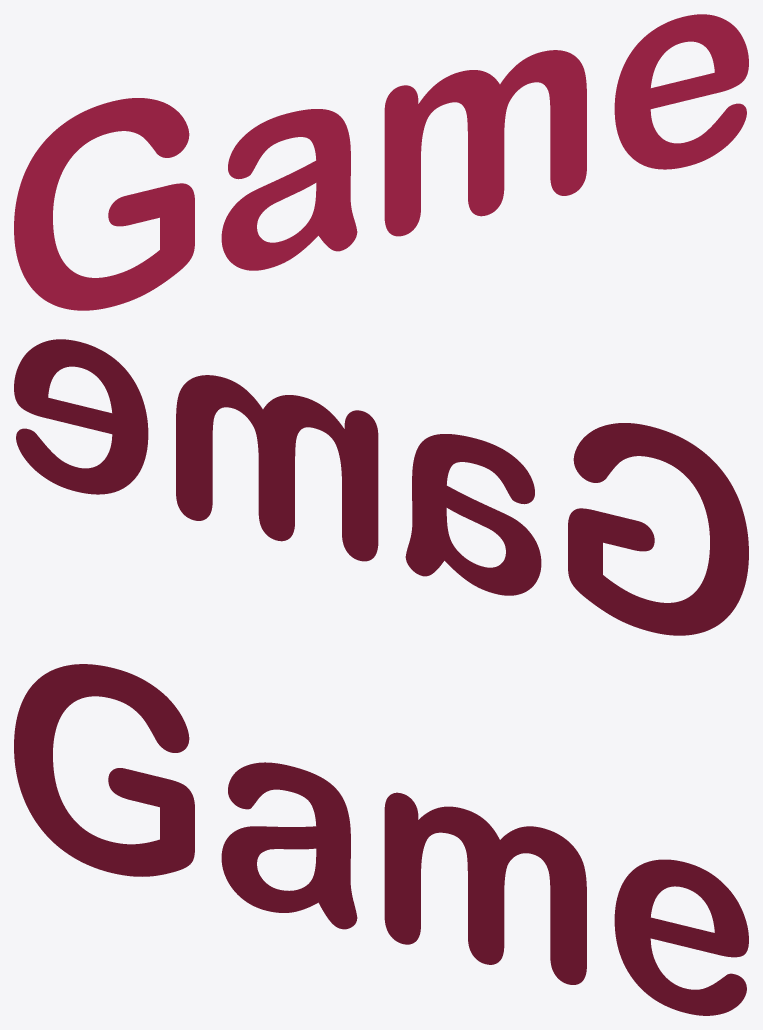
File: gameSelectText.obj
The picture shows the model from 3 angles, top to bottom: view 1: azimuth 30°, elevation 25°; view 2: azimuth 150°, elevation 25°; view 3: azimuth 330°, elevation 25°; orthographic projection.
Visible parts, largest first — view 1: テキスト; view 2: テキスト; view 3: テキスト.
Part boxes in pixels (x1,y1,x2,y2): テキスト: [14, 14, 748, 310]; テキスト: [14, 339, 748, 635]; テキスト: [14, 664, 748, 1015].
Size of the model in its own units: 2.37 by 0.6333 by 0.
